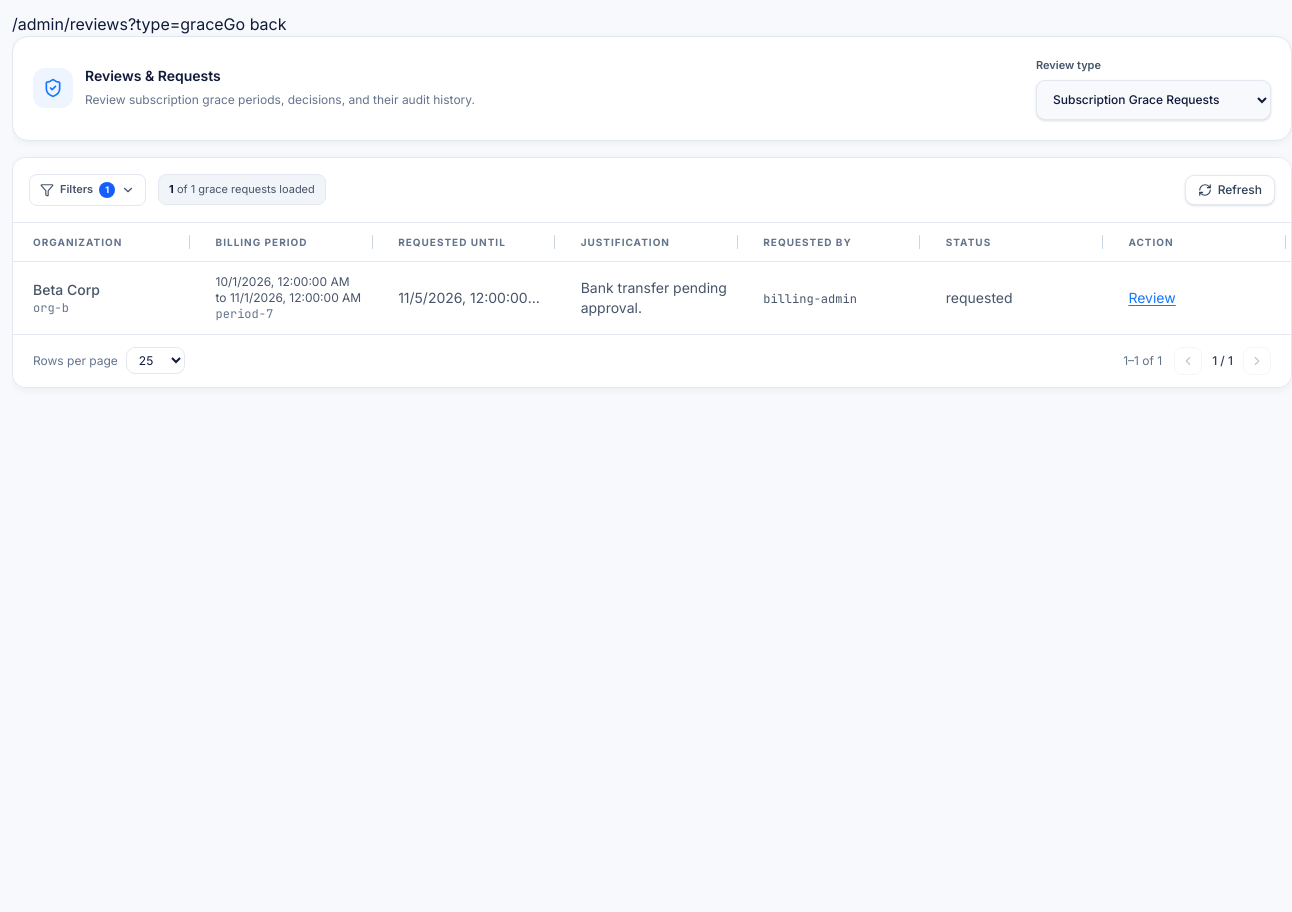
Platform Admin shared reviews page › keeps grace decisions reason-gated and records the selected request version
Click the button "Review" at (1152, 298), box x1=1128 y1=288 x2=1176 y2=308
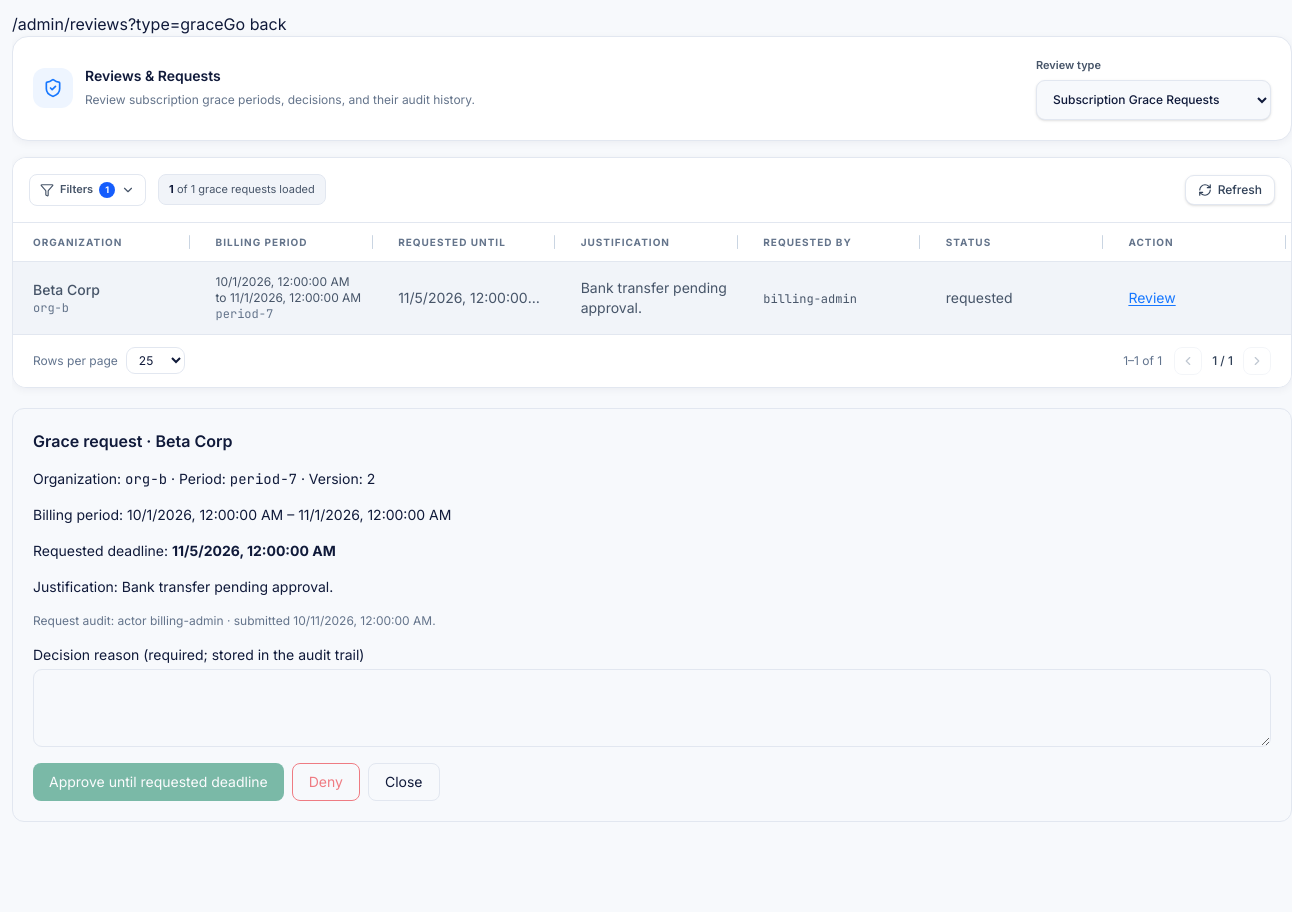
Expected: the button "Approve until requested deadline" is disabled, x1=33 y1=763 x2=284 y2=801
Type "Verified incoming bank settlement." into the text box labelled "Decision reason (required; stored in the audit trail)" at (652, 708), box x1=33 y1=669 x2=1271 y2=747
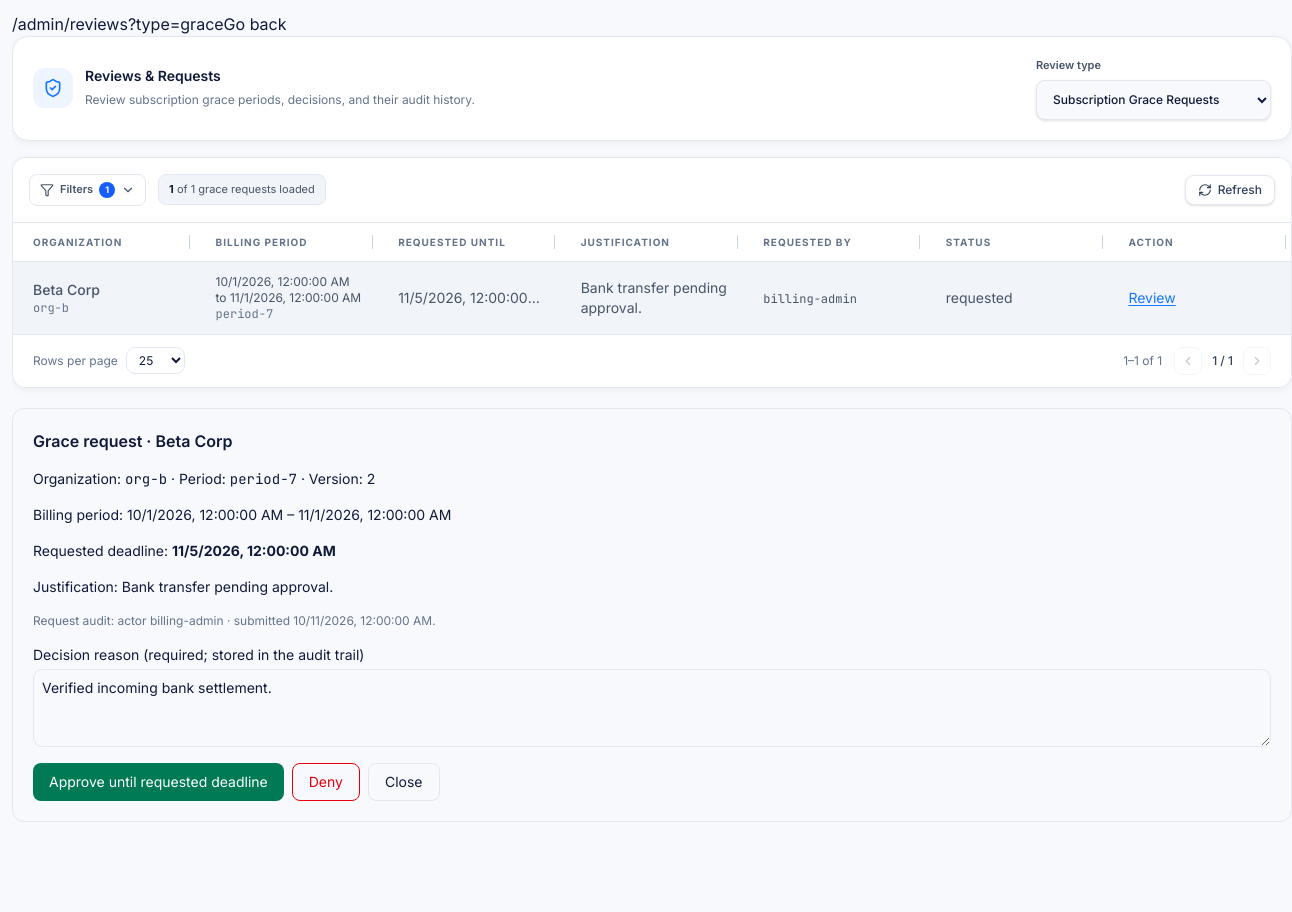
Click the button "Approve until requested deadline" at (158, 782), box x1=33 y1=763 x2=284 y2=801
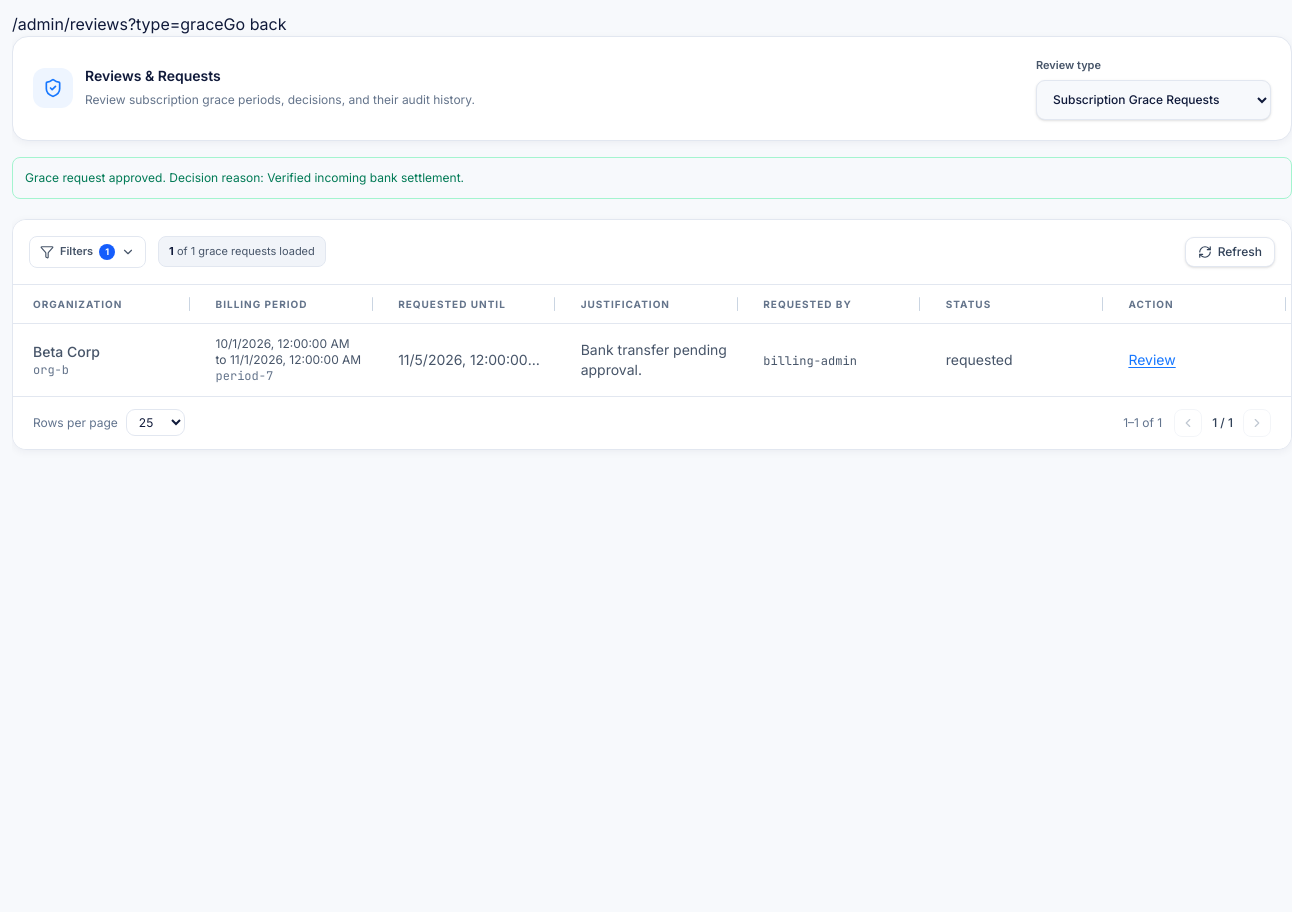
Expected: the text "Grace request approved. Decision reason: Verified incoming bank settlement." is shown, x1=12 y1=156 x2=1291 y2=198
